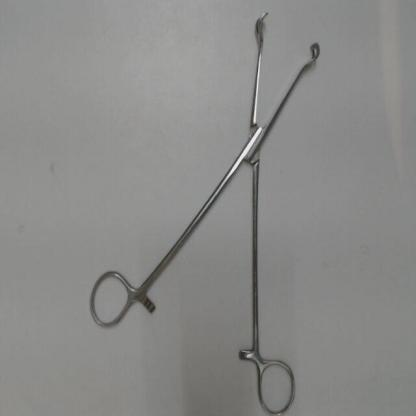8 Babcock Tissue Forceps: (85, 6, 325, 414)
